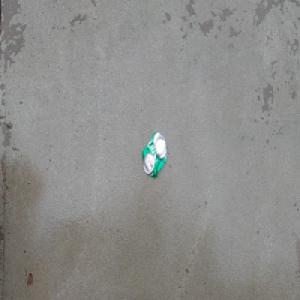SodaCan: (141, 130, 167, 180)
